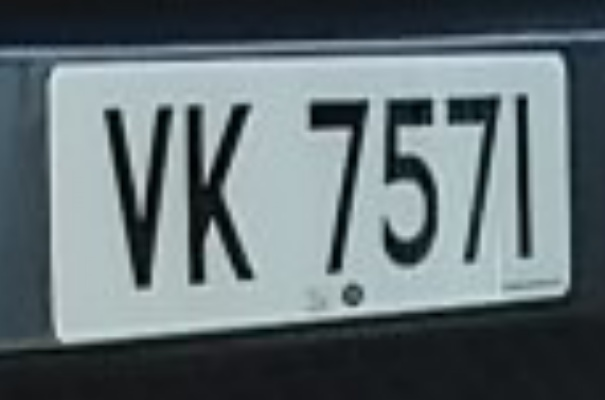1: (505, 75, 547, 278)
5: (374, 71, 445, 292)
7: (294, 69, 377, 299), (439, 74, 508, 281)
K: (172, 76, 268, 313)
V: (95, 83, 182, 306)
